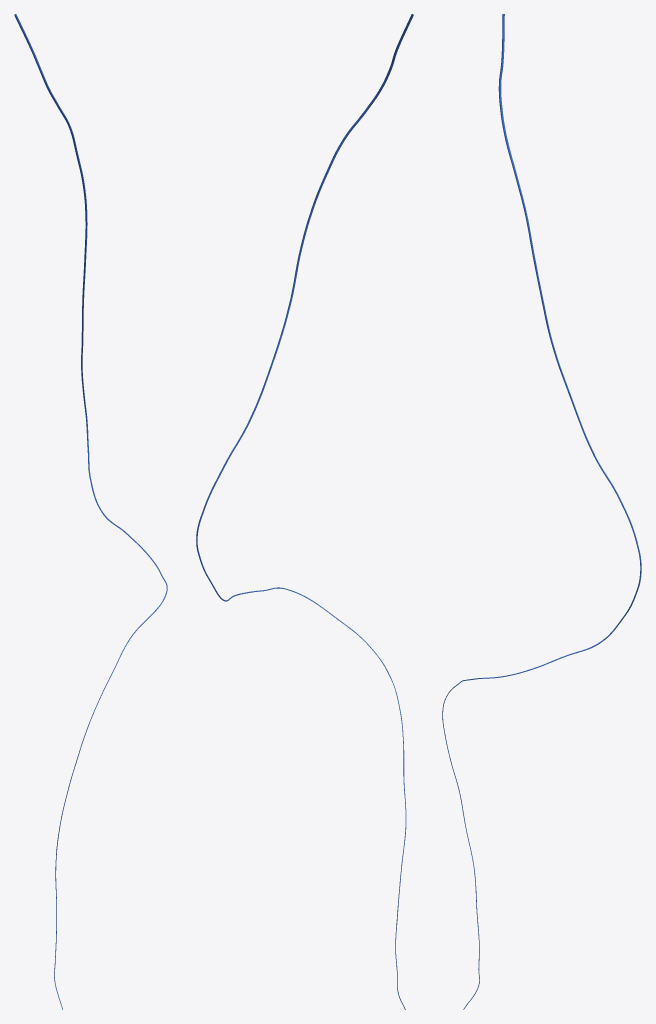
Rendered from circulatorio-left-testicular-vein.glb.
3 renders of one model, left to right at view 1: azimuth 30°, elevation 25°; view 2: azimuth 150°, elevation 25°; view 3: azimuth 270°, elevation 25°, orthographic. The views are drawn at different scales.
Parts seen in each view (by area): view 1: Left testicular vein; view 2: Left testicular vein; view 3: Left testicular vein.
Part boxes in pixels (x1,y1,x2,y2): Left testicular vein: [14, 14, 167, 1009]; Left testicular vein: [196, 14, 413, 1009]; Left testicular vein: [442, 14, 641, 1009].
Bounding box in the file's own units: 0.0594 × 0.3767 × 0.0692.
